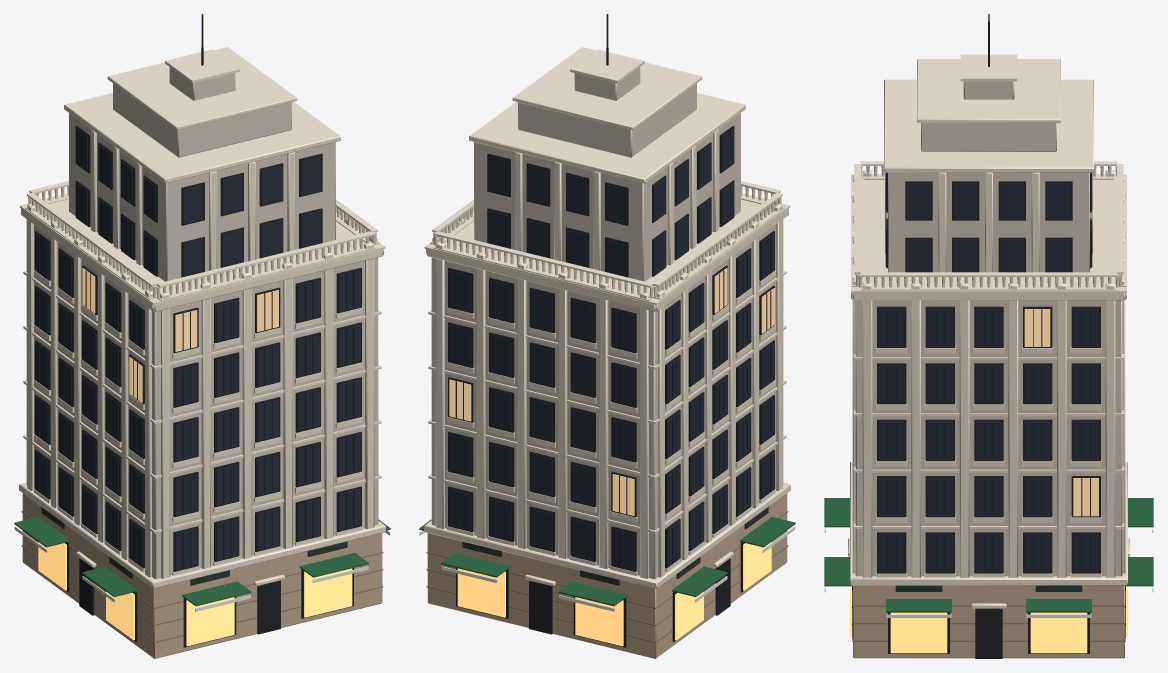
Rendered from building_dc_a.fbx.
3 renders of one model, left to right at view 1: azimuth 30°, elevation 25°; view 2: azimuth 150°, elevation 25°; view 3: azimuth 270°, elevation 25°, orthographic. The views are drawn at different scales.
Parts seen in each view (by area): view 1: building_dc_a; view 2: building_dc_a; view 3: building_dc_a.
Boxes of the visible parts, x1,y1,x2,y2 form: building_dc_a: (14,14,390,658); building_dc_a: (419,14,795,658); building_dc_a: (824,14,1153,658).
Size of the model in its own units: 16.94 by 33.3 by 16.94.
